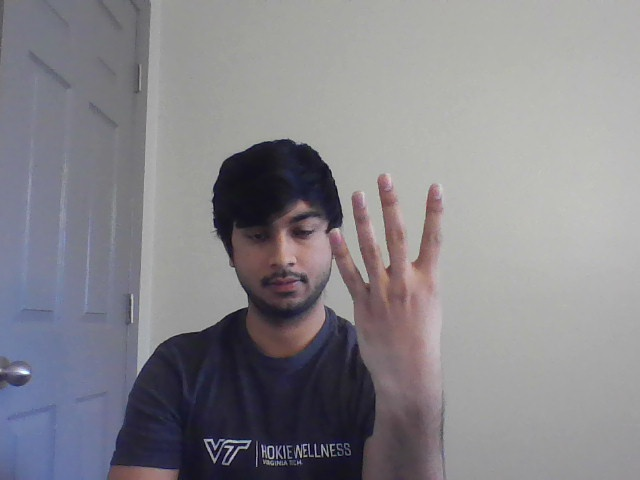four: (326, 170, 453, 352)
